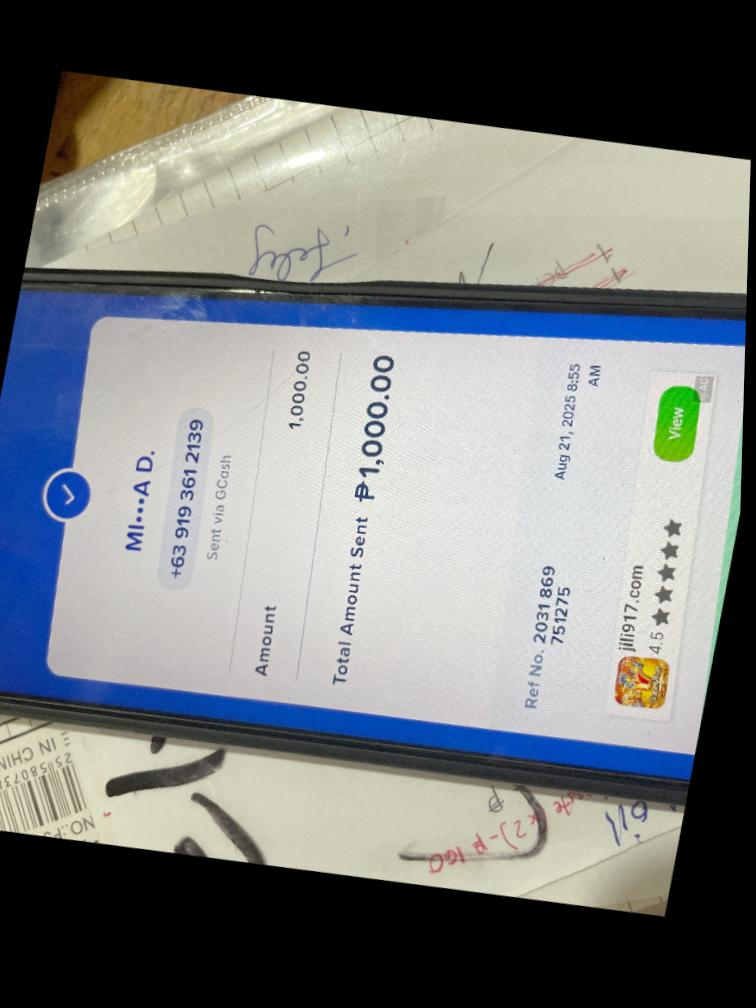Receipt: (0, 289, 746, 779)
